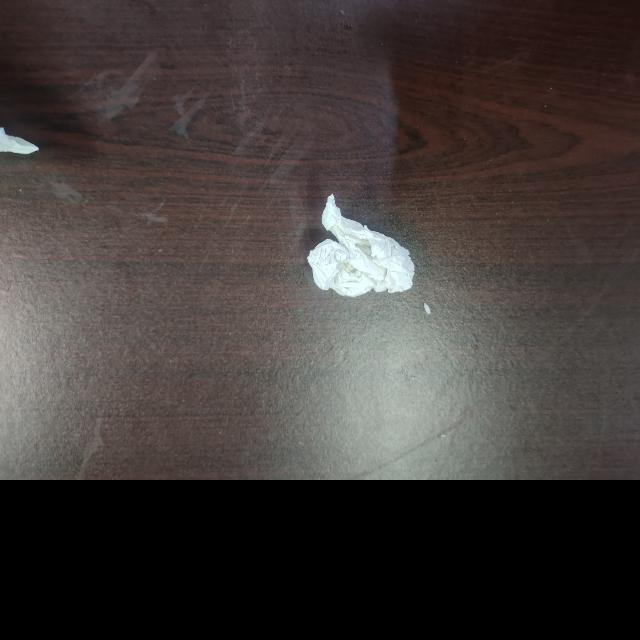kitchen paper: (305, 192, 419, 302), (0, 121, 45, 161)
